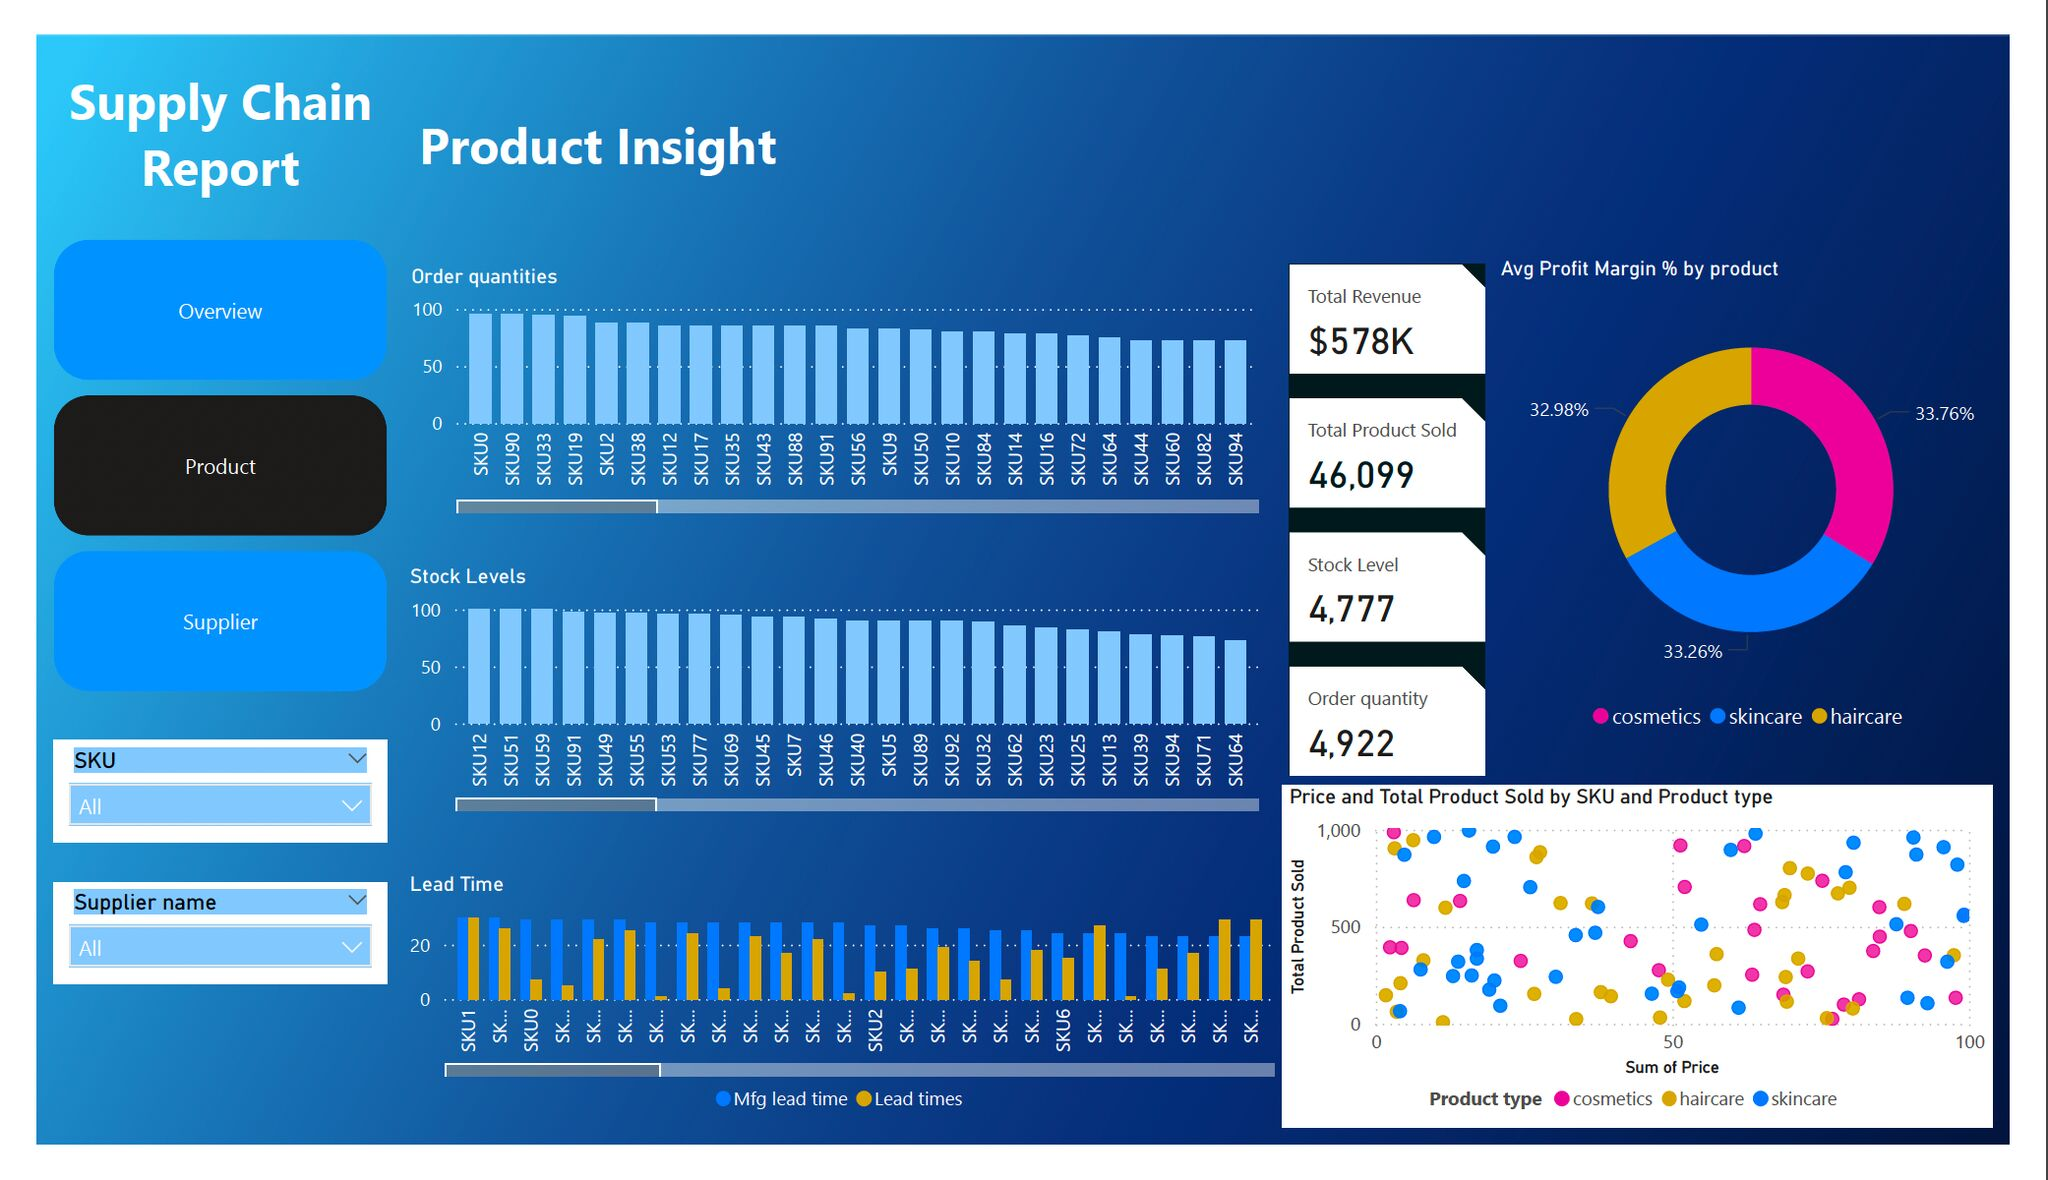

Layout of this report page (visuals, bound fields, positions):
{"tool":"powerbi","page":{"name":"Product","canvas":[1280,720],"ordinal":1},"visuals":[{"type":"columnChart","title":"Order quantities","fields":{"Category":["supply_chain_data.SKU"],"Y":["Measures (2).Order quantity"]},"box":[238.4,149.2,559.7,165.7],"z":0},{"type":"columnChart","title":"Stock Levels","fields":{"Category":["supply_chain_data.SKU"],"Y":["Sum(supply_chain_data.Stock levels)"]},"box":[237.1,344.2,561,164.5],"z":1000},{"type":"clusteredColumnChart","title":"Lead Time","fields":{"Category":["supply_chain_data.SKU"],"Y":["Sum(supply_chain_data.Mfg lead time)","Sum(supply_chain_data.Lead times)"]},"box":[237.1,544.4,571.2,164.5],"z":2000},{"type":"cardVisual","fields":{"Data":["Measures (2).Total Revenue","Measures (2).Total Product Sold","Measures (2).Stock Level","Measures (2).Order quantity"]},"box":[808.4,143.9,136.3,343],"z":3000},{"type":"donutChart","title":"Avg Profit Margin % by product","fields":{"Category":["supply_chain_data.Product type"],"Y":["Measures (2).Avg Profit Margin %"]},"box":[944.7,143.9,335.3,316.9],"z":4000},{"type":"scatterChart","title":"Price and Total Product Sold by SKU and Product type","fields":{"Category":["supply_chain_data.SKU"],"Y":["Measures (2).Total Product Sold"],"X":["Sum(supply_chain_data.Price)"],"Series":["supply_chain_data.Product type"]},"box":[808.4,486.9,460.9,222],"z":5000},{"type":"textbox","box":[243.4,44.4,248,53.6],"z":6000},{"type":"pageNavigator","box":[10.7,133.2,215.9,294],"z":7000},{"type":"slicer","fields":{"Values":["supply_chain_data.SKU"]},"box":[10.7,457.8,215.9,65.8],"z":8000},{"type":"slicer","fields":{"Values":["supply_chain_data.Supplier name"]},"box":[10.7,549.7,215.9,65.8],"z":9000},{"type":"textbox","box":[10.7,15.3,215.9,99.5],"z":10000}]}

Visuals, with their boxes in screenshot pixels (x1, y1, x2, y2), scaled from the page's 1280x720 canvas onto the 2048x1180 screenshot:
"Order quantities" columnChart: locate(381, 245, 1277, 516)
"Stock Levels" columnChart: locate(379, 564, 1277, 834)
"Lead Time" clusteredColumnChart: locate(379, 892, 1293, 1162)
cardVisual - Measures (2).Total Revenue x Measures (2).Total Product Sold: locate(1293, 236, 1512, 798)
"Avg Profit Margin % by product" donutChart: locate(1512, 236, 2047, 755)
"Price and Total Product Sold by SKU and Product type" scatterChart: locate(1293, 798, 2031, 1162)
textbox: locate(389, 73, 786, 161)
pageNavigator: locate(17, 218, 363, 700)
slicer - supply_chain_data.SKU: locate(17, 750, 363, 858)
slicer - supply_chain_data.Supplier name: locate(17, 901, 363, 1009)
textbox: locate(17, 25, 363, 188)
